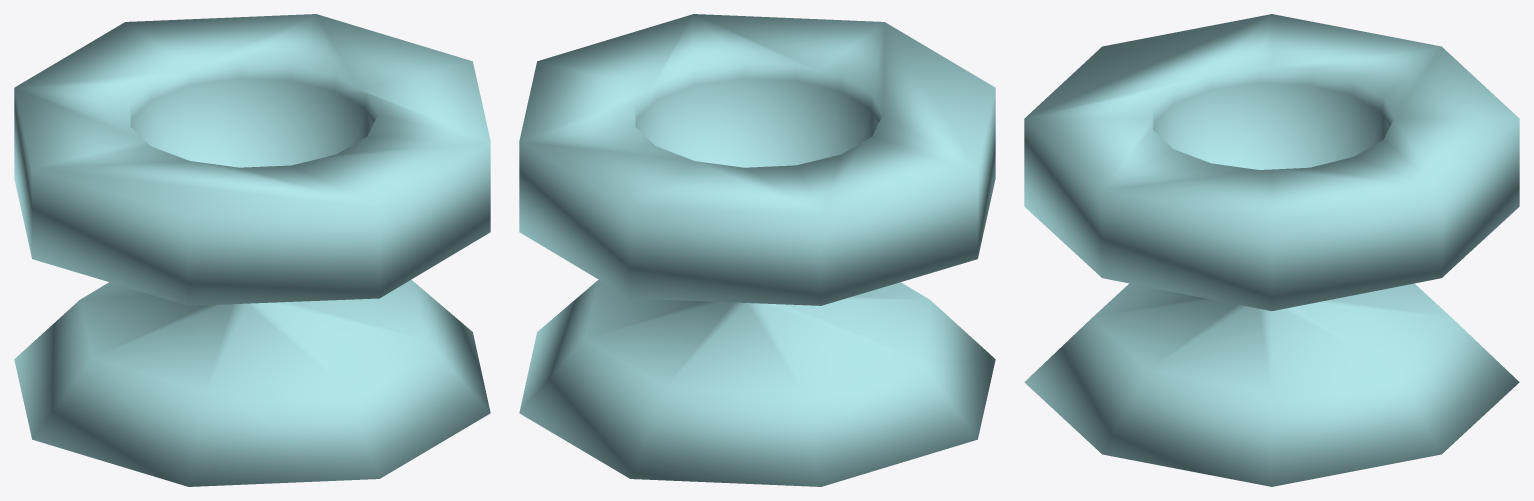
The picture shows the model from 3 angles, left to right: view 1: azimuth 30°, elevation 25°; view 2: azimuth 150°, elevation 25°; view 3: azimuth 270°, elevation 25°; orthographic projection. The views are drawn at different scales.
Visible parts, largest first — view 1: Base; view 2: Base; view 3: Base.
Boxes of the visible parts, x1,y1,x2,y2 form: Base: [14, 14, 490, 486]; Base: [519, 14, 995, 486]; Base: [1024, 14, 1519, 486].
Bounding box in the file's own units: 189 × 111 × 189.
